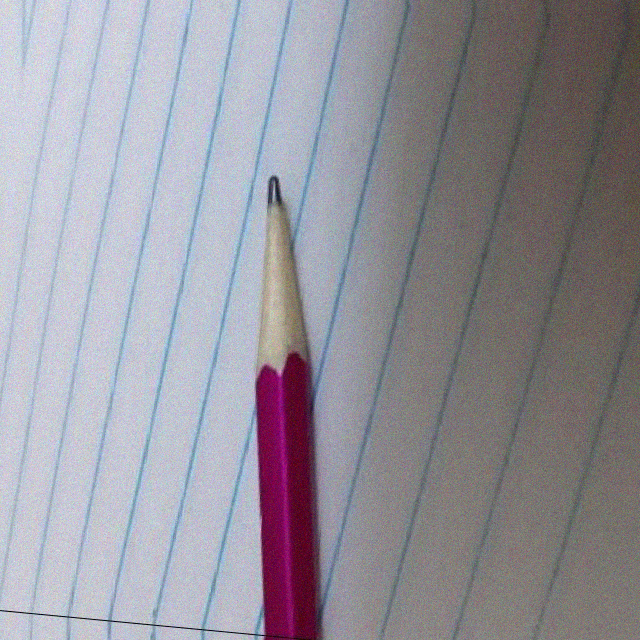pencil: (226, 165, 325, 383)
